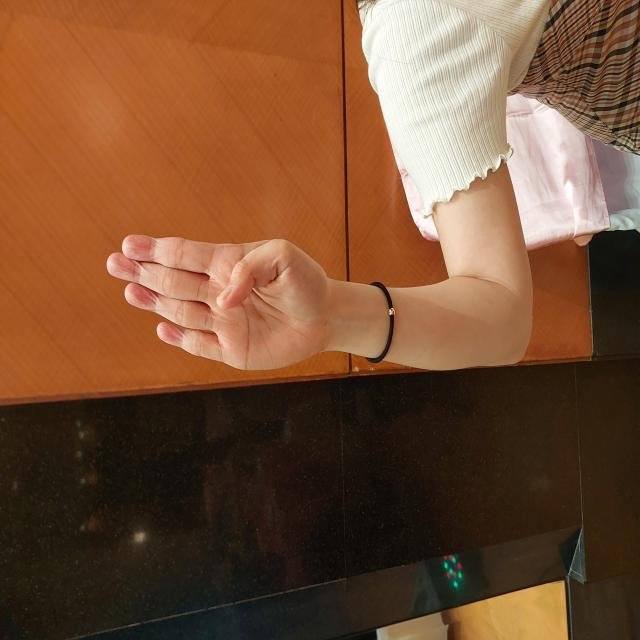B: (268, 105, 408, 332)
